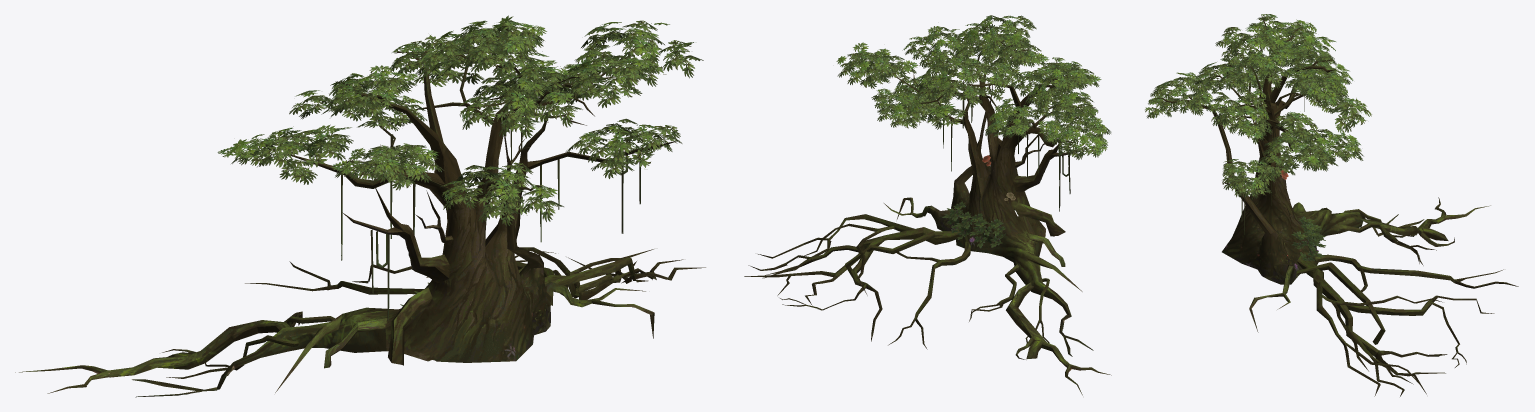
File: 4006_Item_shu_1.FBX
3 views of the same model, side by side, from view 1: azimuth 30°, elevation 25°; view 2: azimuth 150°, elevation 25°; view 3: azimuth 270°, elevation 25° (orthographic). The views are drawn at different scales.
Parts seen in each view (by area): view 1: 4006_Item_shu_1; view 2: 4006_Item_shu_1; view 3: 4006_Item_shu_1.
Part boxes in pixels (x1=…): 4006_Item_shu_1: x1=15, y1=15, x2=705, y2=397; 4006_Item_shu_1: x1=744, y1=15, x2=1111, y2=395; 4006_Item_shu_1: x1=1145, y1=14, x2=1518, y2=396.
Size of the model in its own units: 81725 by 50760 by 62771.
